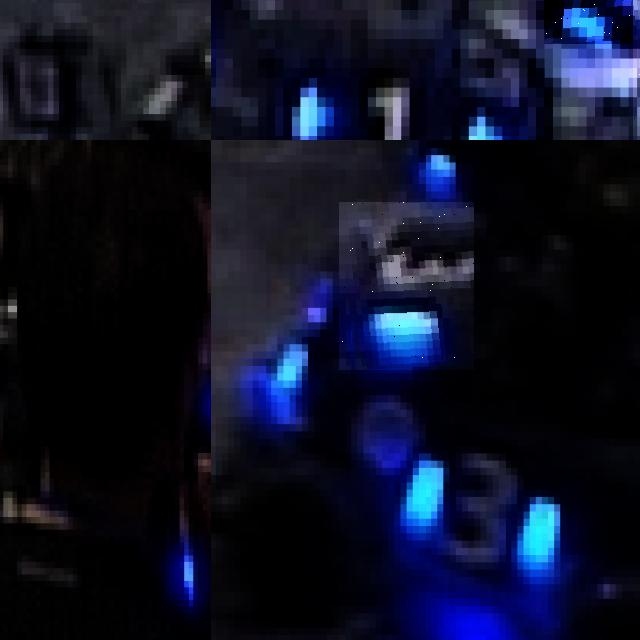B1: (271, 49, 515, 140), (544, 0, 640, 43)
B3: (388, 432, 567, 592), (339, 202, 474, 370)
